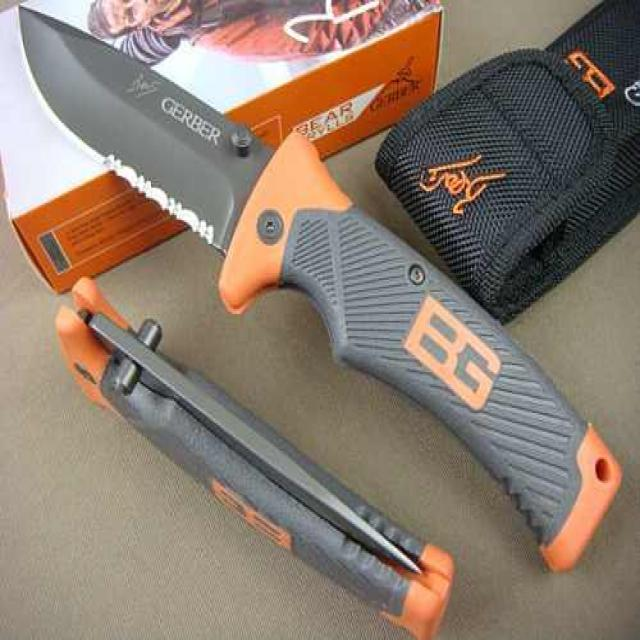knife: (15, 2, 626, 572)
